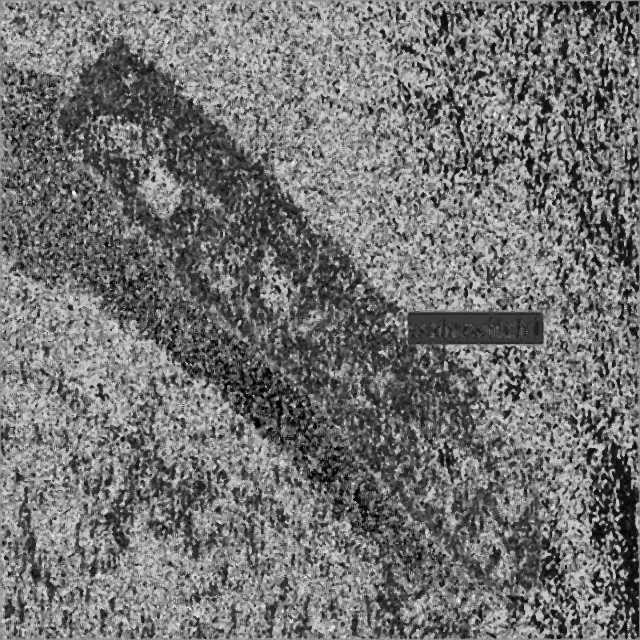Ship: (41, 22, 576, 625)
